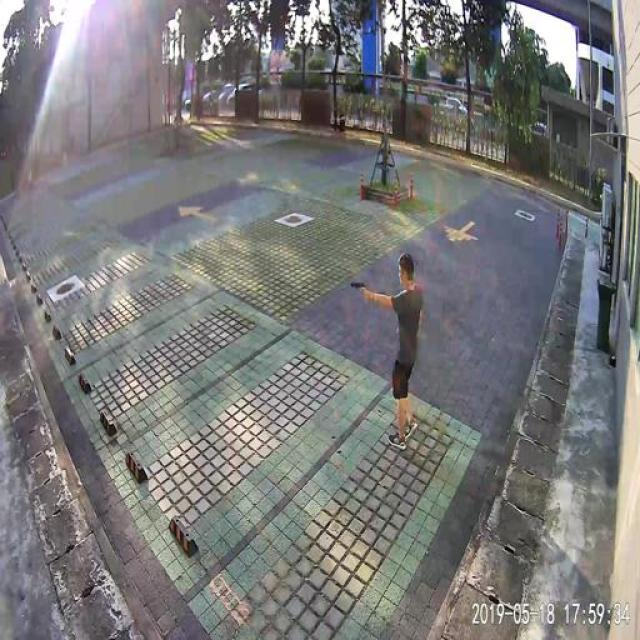Gun: (344, 271, 380, 304)
